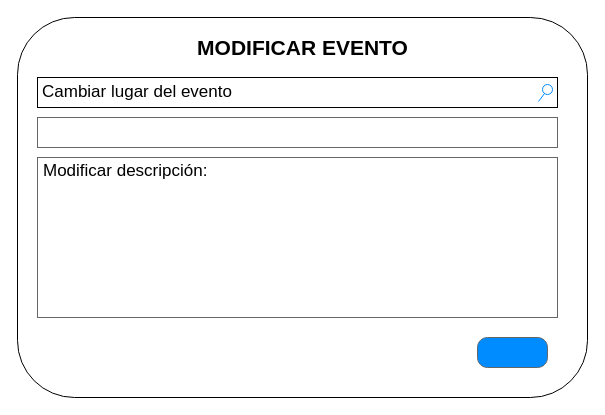
Some shapes in this 605 by 415 pixel diagram are drawn without their labels. The centre of each missing label's shape, as x and y in pixels:
"Cambiar nombre del evento" belongs at pixel 297 132.
"Guardar" belongs at pixel 512 352.
